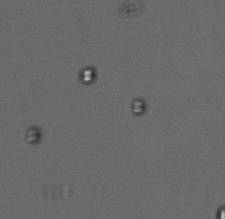Dead Cell: (130, 97, 148, 117), (24, 127, 41, 144)
Living Cell: (79, 64, 96, 84)
